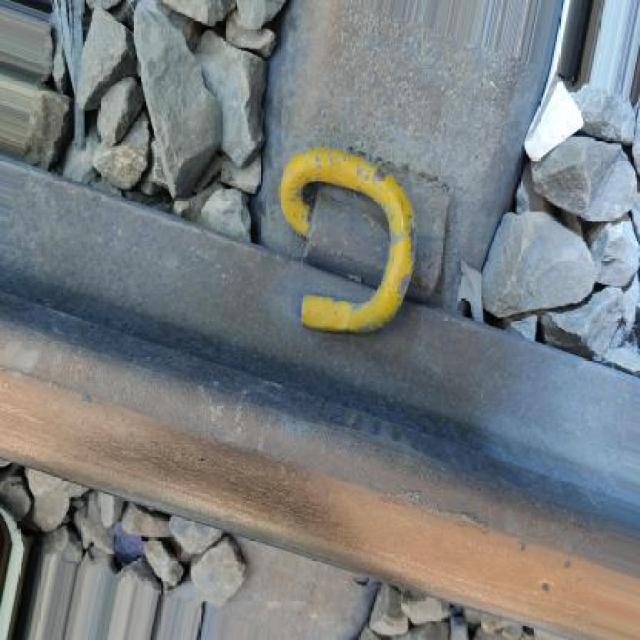non-defective: (3, 124, 638, 640)
